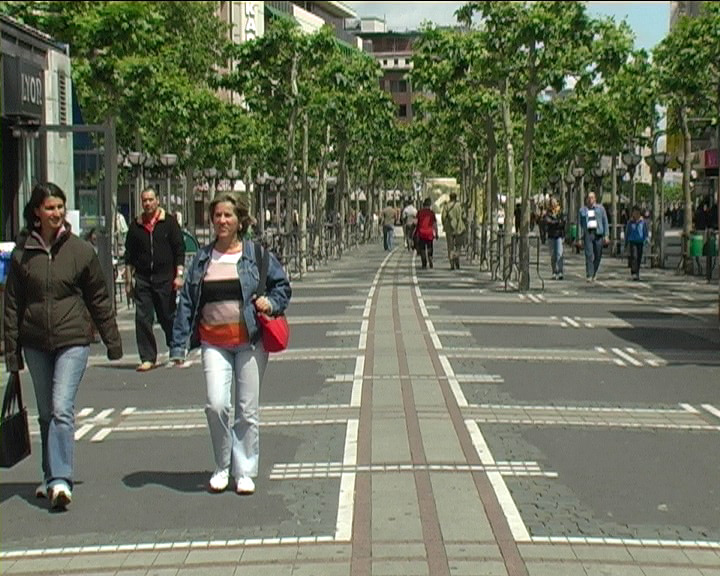deflection: (10, 183, 107, 297)
